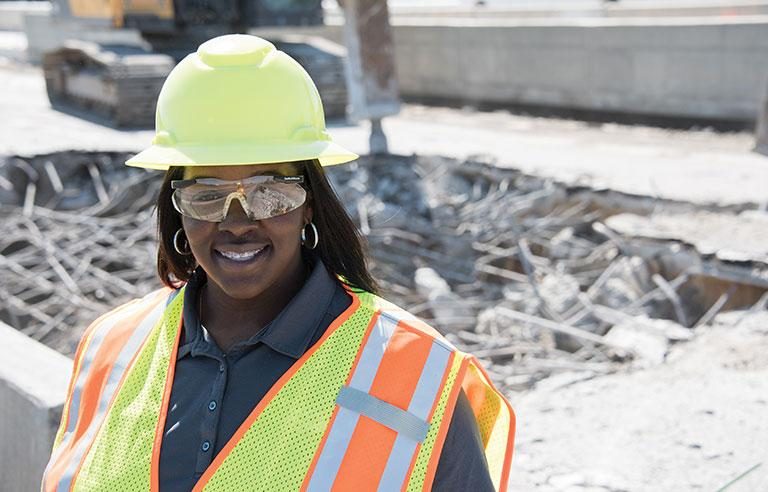helmet: (123, 32, 361, 173)
